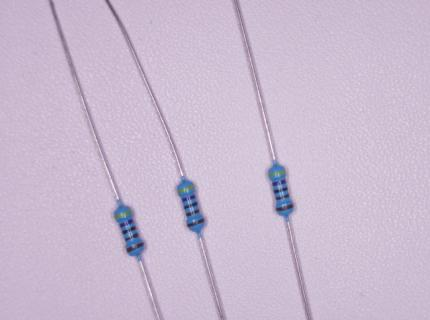Black band: (121, 226, 137, 235), (183, 201, 198, 210), (274, 187, 288, 193)
Brown band: (126, 242, 145, 253), (187, 218, 205, 228), (124, 232, 139, 242), (276, 203, 294, 211), (186, 209, 200, 217), (275, 194, 290, 200)
Violet band: (181, 194, 196, 203), (119, 219, 134, 228), (272, 179, 287, 186)
Yellow band: (114, 210, 132, 219), (176, 185, 195, 193), (268, 170, 286, 176)
